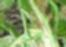Tomato leaf mosaic virus: (30, 1, 66, 47)
